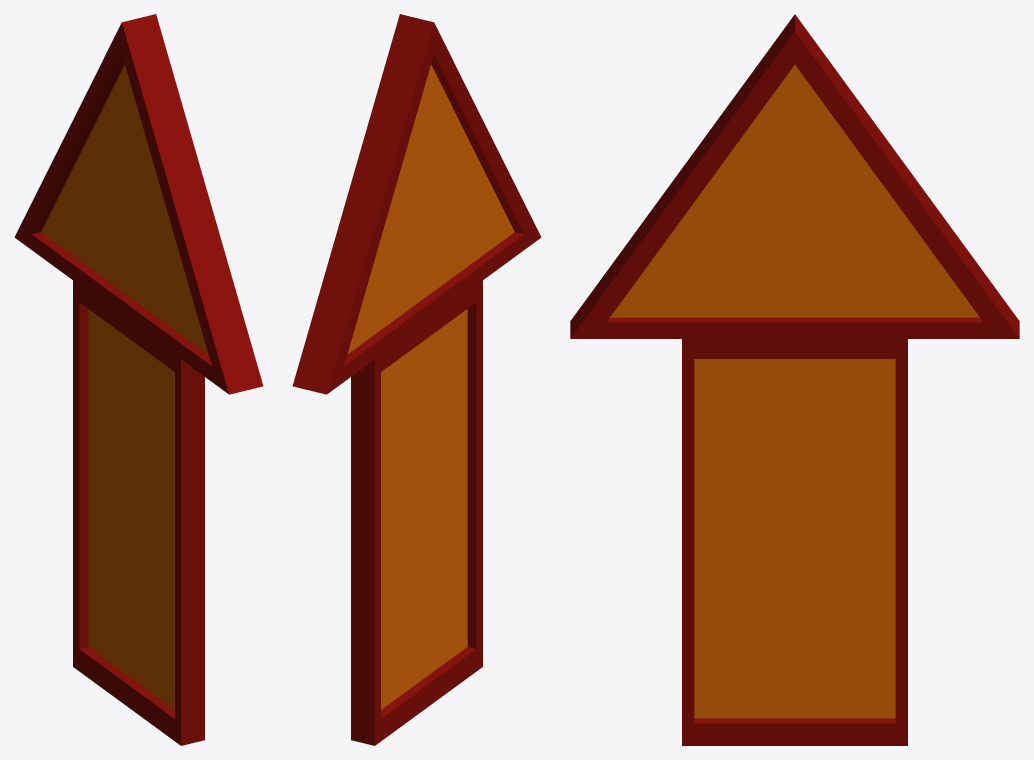
Rendered from UpgradeArrow.fbx.
The picture shows the model from 3 angles, left to right: view 1: azimuth 30°, elevation 25°; view 2: azimuth 150°, elevation 25°; view 3: azimuth 270°, elevation 25°; orthographic projection. The views are drawn at different scales.
Visible parts, largest first — view 1: Cube; view 2: Cube; view 3: Cube.
Part boxes in pixels (x1,y1,x2,y2): Cube: [14, 14, 263, 745]; Cube: [292, 14, 541, 745]; Cube: [570, 14, 1019, 745].
Size of the model in its own units: 398 by 36.61 by 700.
